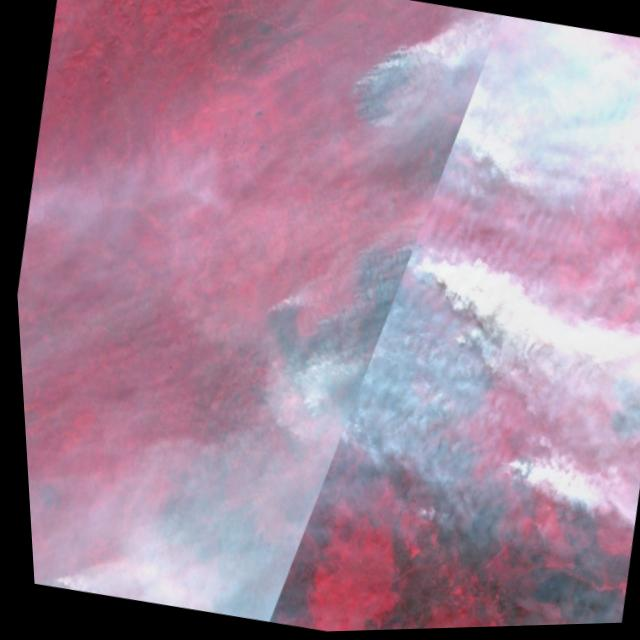fire: (385, 235, 521, 388), (339, 38, 428, 141), (481, 440, 553, 510)
